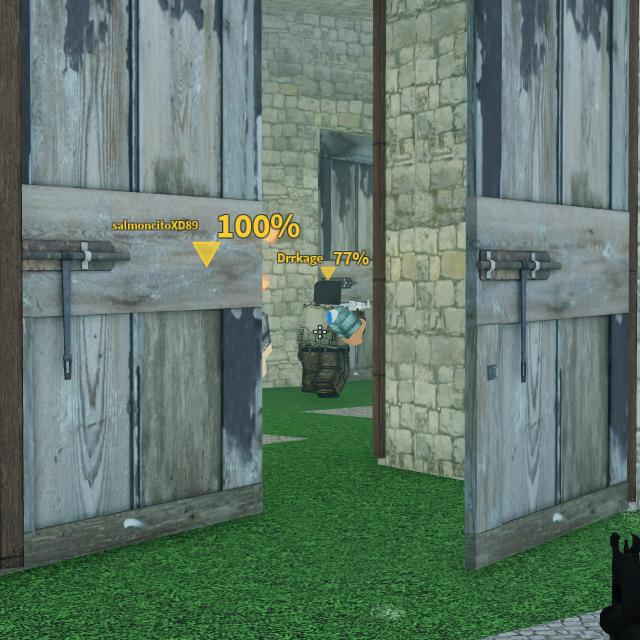Head: (315, 280, 341, 305)
Player: (299, 280, 365, 398)
